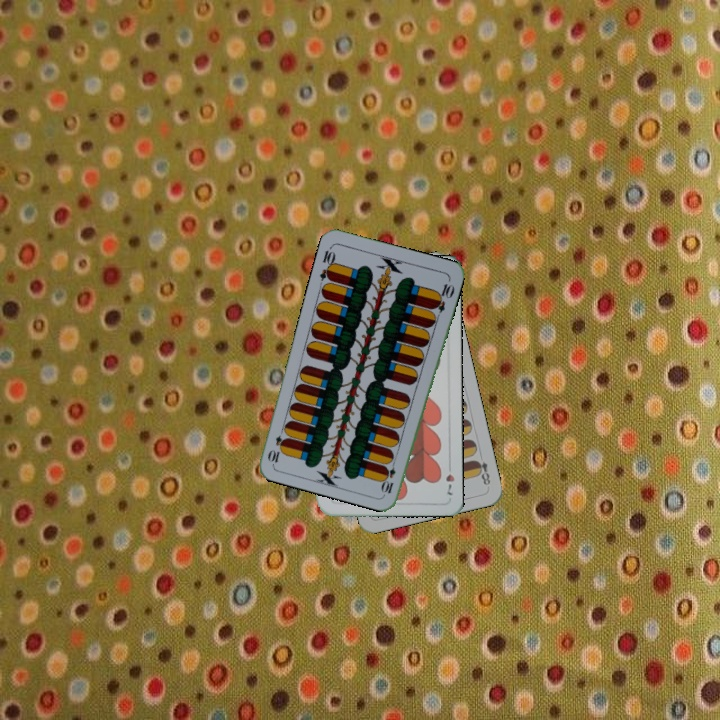E10: (316, 243, 338, 283), (379, 456, 398, 496)
E8: (471, 450, 493, 488)
H7: (442, 459, 457, 498)
